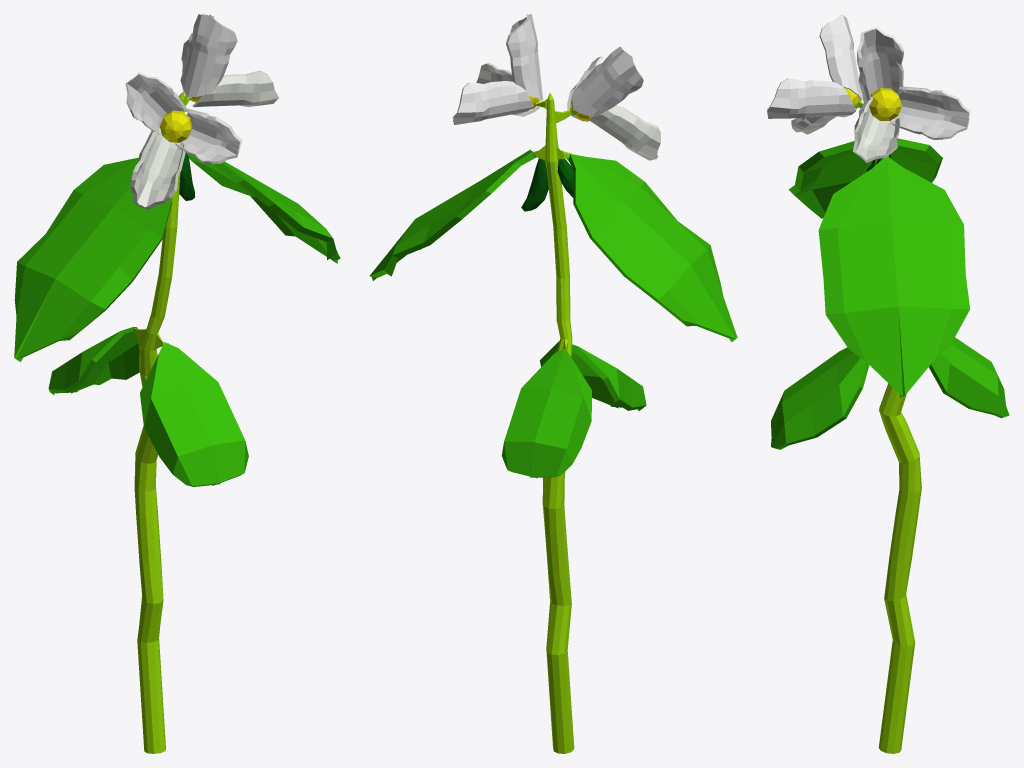
The model's file is Lima Bean Germination GrowthFlowering3Fruiting.fbx.
3 renders of one model, left to right at view 1: azimuth 30°, elevation 25°; view 2: azimuth 150°, elevation 25°; view 3: azimuth 270°, elevation 25°, orthographic. The views are drawn at different scales.
Parts seen in each view (by area): view 1: Plane.002, Plane, Cylinder, Plane.003, Plane.001, Plane.005, Plane.007, Plane.009, Plane.008, Plane.006, Sphere.001; view 2: Plane.002, Cylinder, Plane.001, Plane.003, Plane.008, Plane, Plane.004, Plane.005, Plane.007, Icosphere, Plane.006; view 3: Plane.003, Cylinder, Plane, Plane.002, Plane.001, Plane.004, Plane.009, Plane.005, Plane.008, Plane.006, Sphere, Plane.007.
Part boxes in pixels (x1,y1,x2,y2): Plane.002: (14, 157, 172, 361); Plane: (140, 342, 248, 486); Cylinder: (133, 92, 191, 753); Plane.003: (186, 153, 340, 263); Plane.001: (48, 327, 139, 394); Plane.005: (180, 14, 237, 97); Plane.007: (130, 130, 186, 209); Plane.009: (175, 108, 242, 163); Plane.008: (125, 72, 187, 134); Plane.006: (192, 70, 278, 107); Sphere.001: (159, 110, 192, 142); Plane.002: (566, 154, 737, 342); Cylinder: (530, 93, 576, 753); Plane.001: (501, 348, 591, 478); Plane.003: (369, 149, 536, 280); Plane.008: (572, 46, 643, 117); Plane: (539, 341, 646, 410); Plane.004: (452, 81, 533, 124); Plane.005: (506, 14, 543, 100); Plane.007: (589, 105, 660, 160); Icosphere: (521, 158, 548, 211); Plane.006: (476, 62, 540, 116); Plane.003: (818, 156, 969, 397); Cylinder: (855, 100, 921, 753); Plane: (771, 347, 869, 449); Plane.002: (789, 138, 942, 218); Plane.001: (929, 337, 1009, 418); Plane.004: (892, 86, 970, 139); Plane.009: (767, 78, 856, 118); Plane.005: (857, 26, 903, 104); Plane.008: (819, 14, 862, 99); Plane.006: (852, 96, 900, 162); Sphere: (869, 88, 901, 120); Plane.007: (791, 116, 836, 134).
Bounding box in the file's own units: 418 × 835 × 247.
